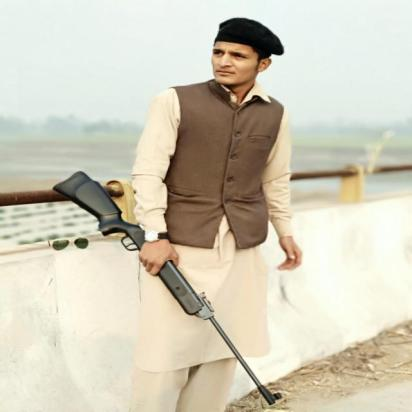Gun: (51, 170, 284, 408)
